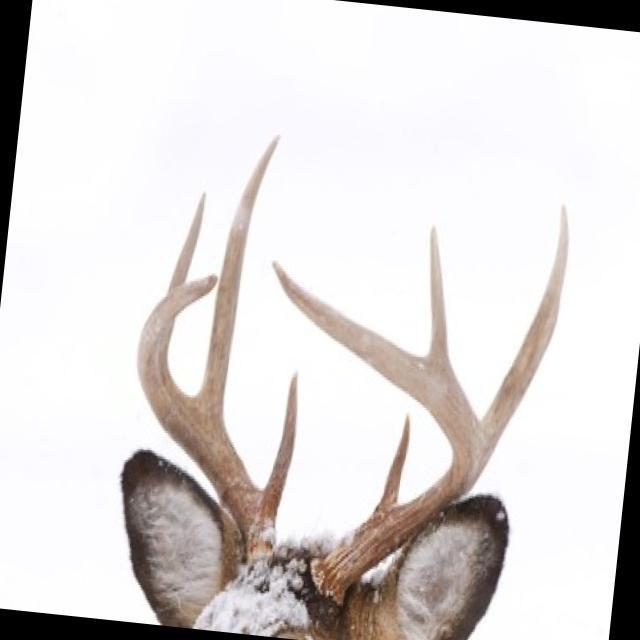L-F: (270, 260, 483, 604)
L-G1: (372, 411, 411, 516)
L-G2: (475, 205, 568, 482)
L-G3: (427, 223, 450, 366)
R-F: (135, 274, 275, 564)
R-G1: (261, 371, 298, 522)
R-G2: (197, 133, 281, 420)
